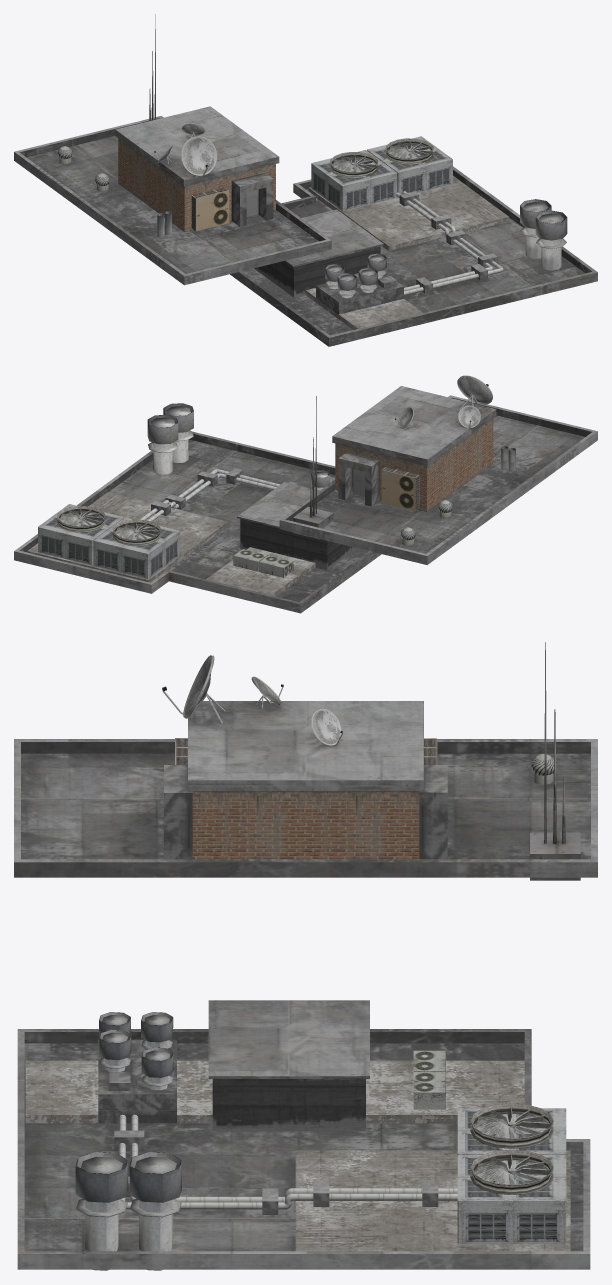
The model's file is roof04.fbx.
3 views of the same model, one above another, from view 1: azimuth 30°, elevation 25°; view 2: azimuth 150°, elevation 25°; view 3: azimuth 270°, elevation 25° (orthographic). The views are drawn at different scales.
Visible parts, largest first — view 1: Object22, Object67, Box134, Box1945, Box1519, Box138, Object60, Box1461, Box885, Rectangle5200, Box136, Rectangle5201 (+6 smaller); view 2: Object22, Object67, Box1945, Box134, Box1519, Box138, Box1461, Box136, Object60, Rectangle73, Cylinder910, Box59 (+10 smaller); view 3: Object22, Object67, Box1945, Box134, Box136, Object60, Box138, Box1461, Box885, Rectangle5201, Cylinder911, Cylinder910 (+12 smaller).
Boxes of the visible parts, x1,y1,x2,y2 form: Object22: (14, 116, 597, 346); Object67: (115, 106, 279, 186); Box134: (308, 176, 509, 250); Box1945: (118, 138, 275, 231); Box1519: (311, 150, 397, 211); Box138: (254, 246, 380, 297); Object60: (284, 209, 383, 267); Box1461: (367, 136, 452, 197); Box885: (316, 273, 403, 314); Rectangle5200: (231, 172, 273, 226); Box136: (305, 288, 422, 329); Rectangle5201: (396, 191, 503, 295); Object22: (14, 395, 597, 613); Object67: (332, 386, 496, 465); Box1945: (335, 418, 493, 511); Box134: (27, 492, 228, 582); Box1519: (93, 517, 179, 578); Box138: (240, 519, 357, 570); Box1461: (38, 504, 123, 565); Box136: (206, 547, 315, 596); Object60: (237, 482, 319, 528); Rectangle73: (338, 452, 379, 506); Cylinder910: (147, 414, 178, 474); Box59: (381, 470, 414, 510); Object22: (14, 739, 597, 1269); Object67: (188, 701, 423, 791); Box1945: (192, 791, 419, 859); Box134: (295, 1150, 570, 1251); Box136: (25, 1060, 524, 1123); Object60: (208, 1000, 369, 1078); Box138: (212, 1079, 365, 1131); Box1461: (457, 1155, 566, 1243); Box885: (98, 1039, 176, 1123); Rectangle5201: (118, 1114, 457, 1209); Cylinder911: (75, 1152, 128, 1270); Cylinder910: (129, 1152, 181, 1270).
Bounding box in the file's own units: 27.52 × 14.73 × 19.57.
